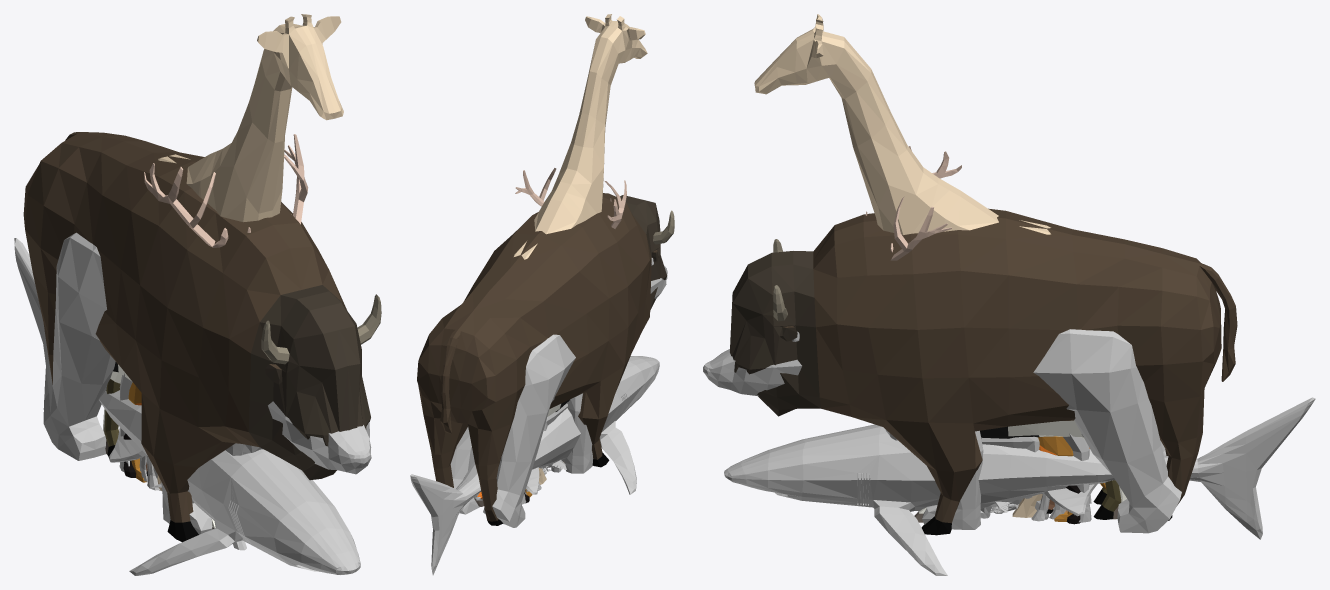
The model's file is AllAnimals(notOne1Point).dae.
3 renders of one model, left to right at view 1: azimuth 30°, elevation 25°; view 2: azimuth 150°, elevation 25°; view 3: azimuth 270°, elevation 25°, orthographic. The views are drawn at different scales.
Parts seen in each view (by area): view 1: 04bizonFinal, 07sharkFinal, 08bearFinal, 18girafFinal, 09deerFinal, 12dogFinal; view 2: 04bizonFinal, 08bearFinal, 18girafFinal, 07sharkFinal, 09deerFinal; view 3: 04bizonFinal, 07sharkFinal, 08bearFinal, 18girafFinal, 09deerFinal, 13cowFinal, 10sheepFinal.
Boxes of the visible parts, x1,y1,x2,y2 form: 04bizonFinal: (23,132,381,542); 07sharkFinal: (14,238,360,575); 08bearFinal: (43,232,371,534); 18girafFinal: (157,14,343,490); 09deerFinal: (104,134,308,456); 12dogFinal: (139,443,262,550); 04bizonFinal: (417,193,674,525); 08bearFinal: (450,258,667,527); 18girafFinal: (513,14,647,484); 07sharkFinal: (410,356,659,575); 09deerFinal: (515,168,626,228); 04bizonFinal: (730,208,1237,535); 07sharkFinal: (724,397,1315,575); 08bearFinal: (703,329,1181,533); 18girafFinal: (754,14,1050,517); 09deerFinal: (865,146,1121,519); 13cowFinal: (914,420,1126,522); 10sheepFinal: (916,436,1049,521).
Bounding box in the file's own units: 1.43 × 4.5 × 4.2.
